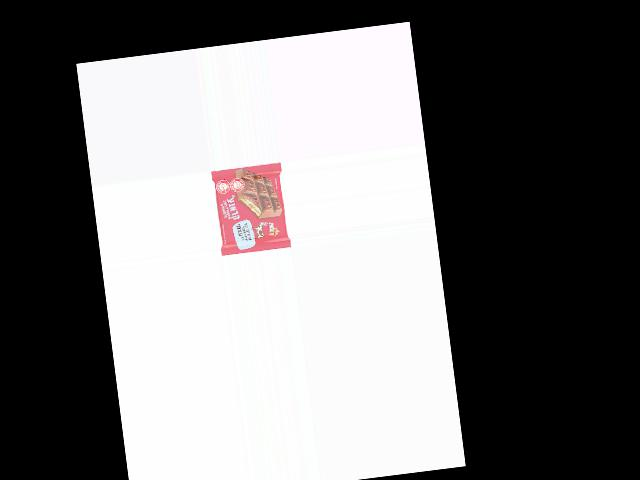chocolate: (210, 163, 290, 253)
